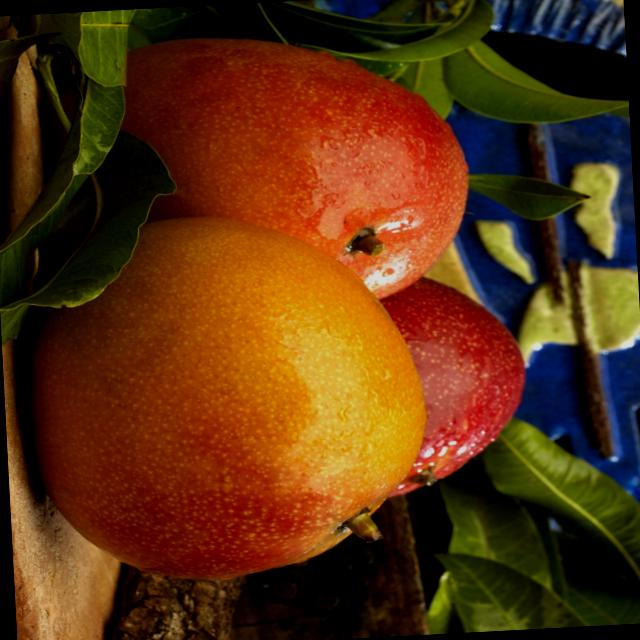mango: (16, 209, 440, 592), (90, 26, 470, 303)
